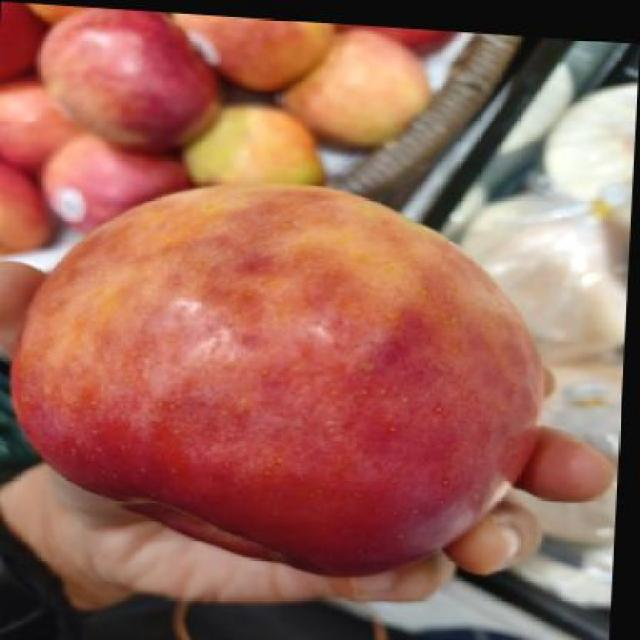Fresh Apple: (28, 185, 549, 566)
